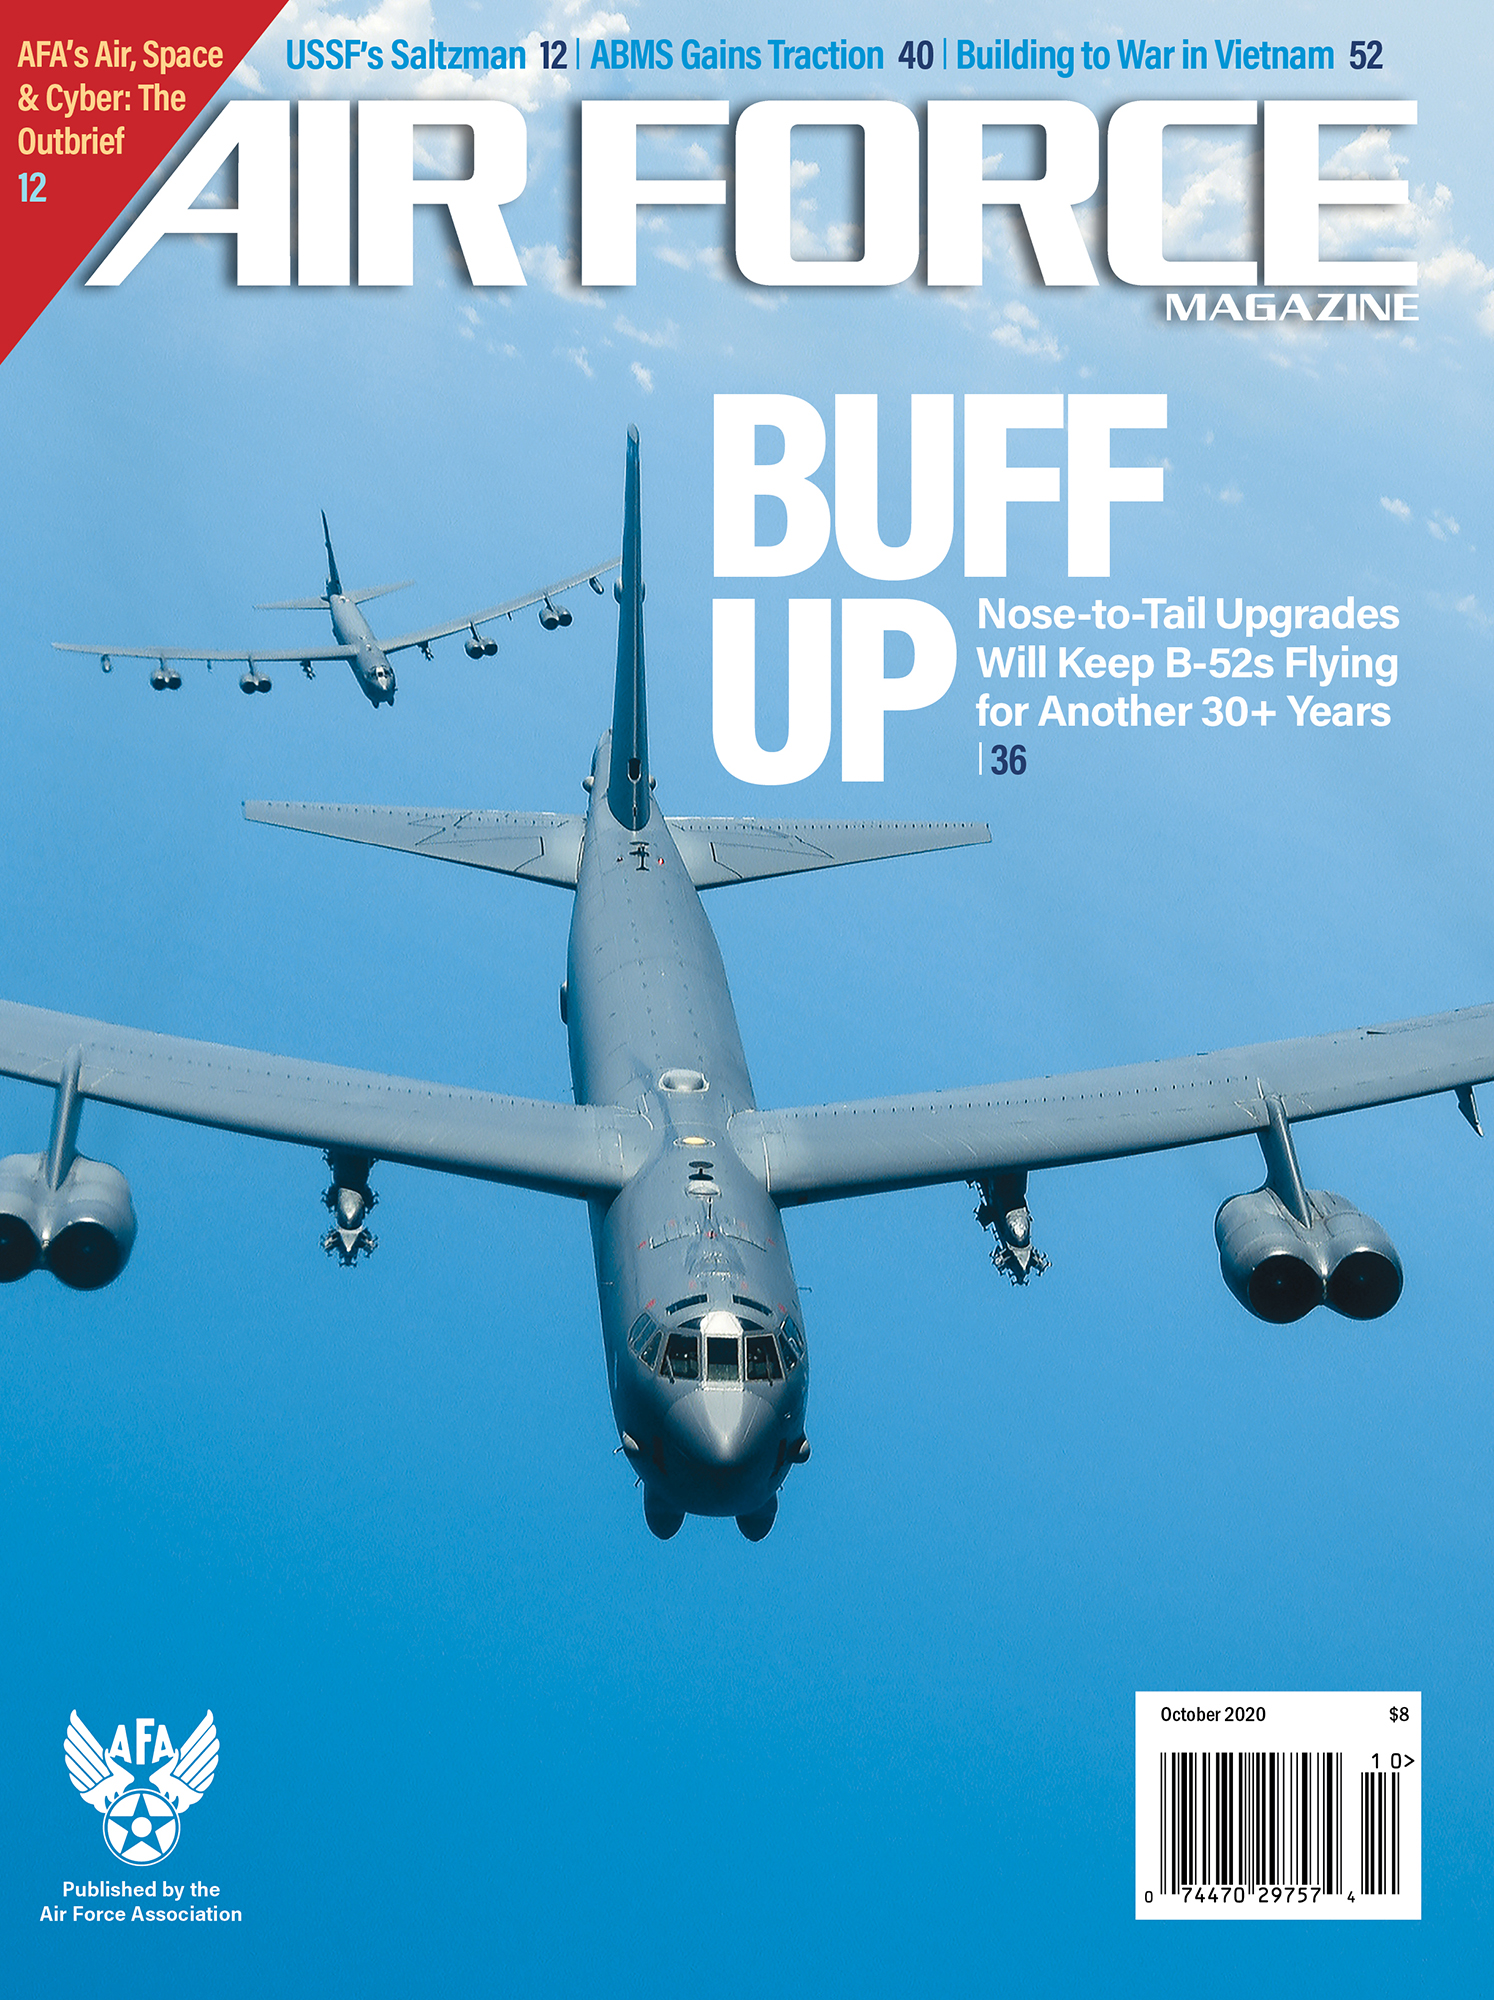B52: (2, 422, 1494, 1542), (50, 508, 620, 709)
